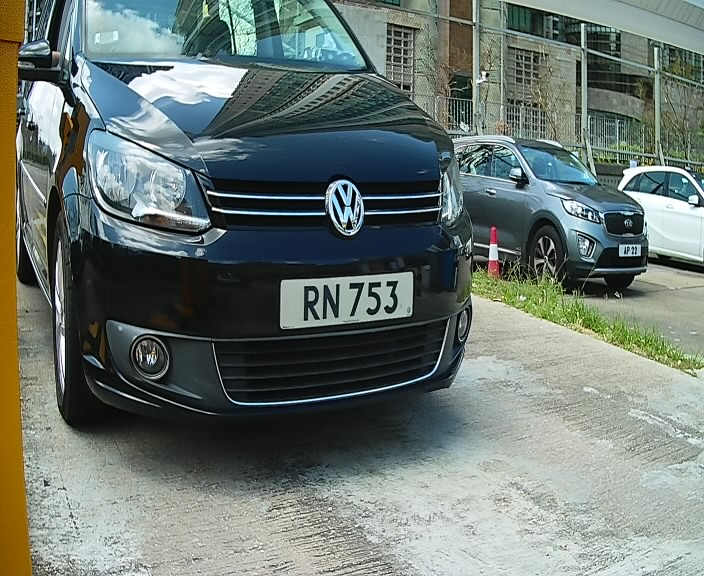Car: (16, 2, 497, 452)
License Plate: (268, 268, 421, 335)
